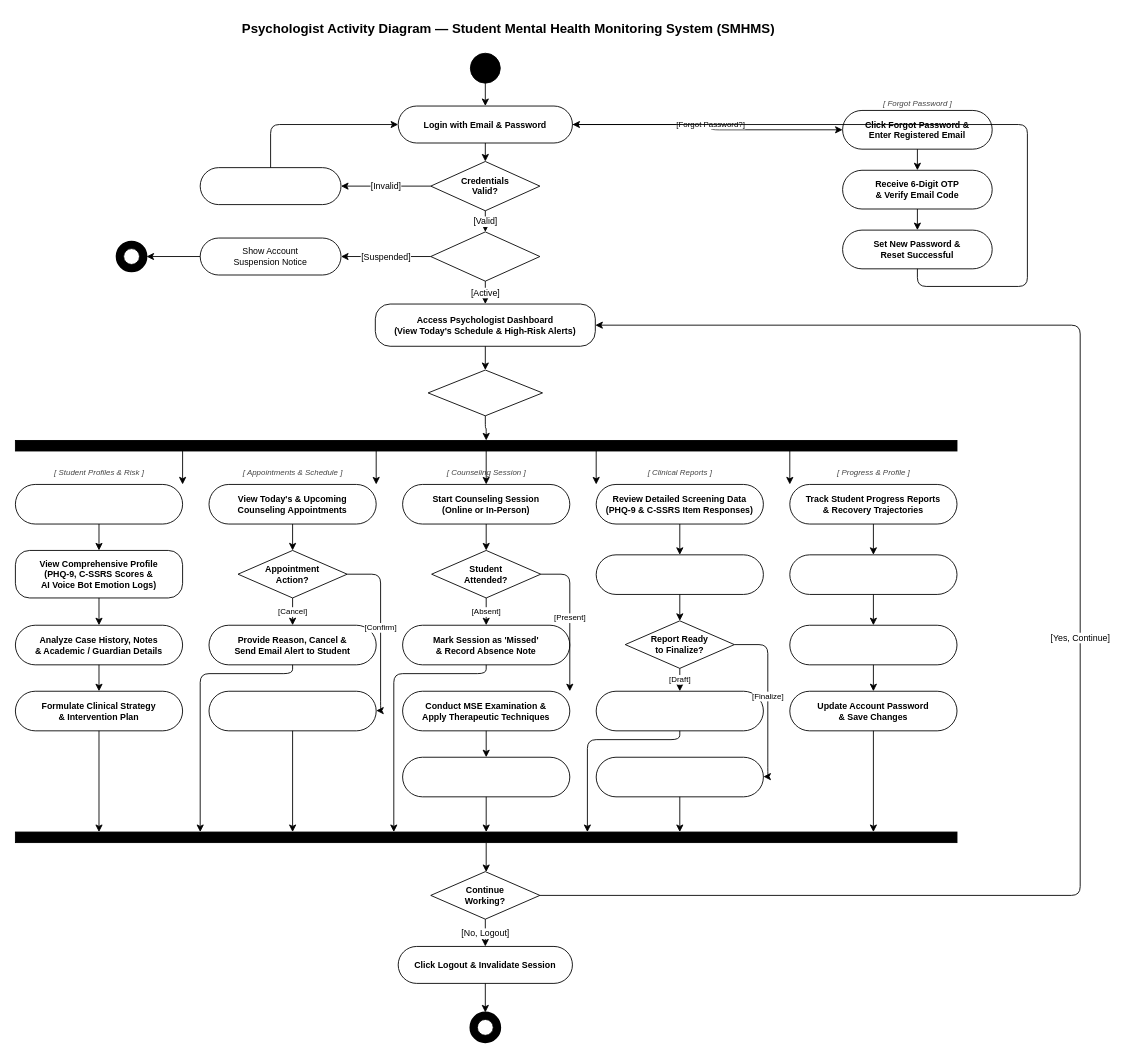
Image size: 1125x1058. Some labels were removed from this diagram. The centre of each missing label's shape, as x and y in pixels:
"Account Suspended?" belongs at (x=485, y=256).
"Browse Assigned Students (Filter by Dept & Risk Level)" belongs at (x=99, y=504).
"Confirm Session Schedule & Prepare Case File" belongs at (x=292, y=710).
"Draft / Edit Clinical Observation Report" belongs at (x=679, y=574).
"Filter by Follow-Up Priority (Urgent, Active, Stable)" belongs at (x=873, y=574).
"Manage Psychologist Profile (Bio, Specialization & Photo)" belongs at (x=873, y=644).
"Record Session Notes, Assign Coping Tasks & Set Completed" belongs at (x=486, y=776).
"Save as Editable Draft (IsFinal = False)" belongs at (x=679, y=710).
"Select Activity / Module" belongs at (x=485, y=392).
"Show Error Message (Invalid Credentials)" belongs at (x=270, y=186).
"Submit & Lock Final Report (IsFinal = True, Archived)" belongs at (x=679, y=776).
